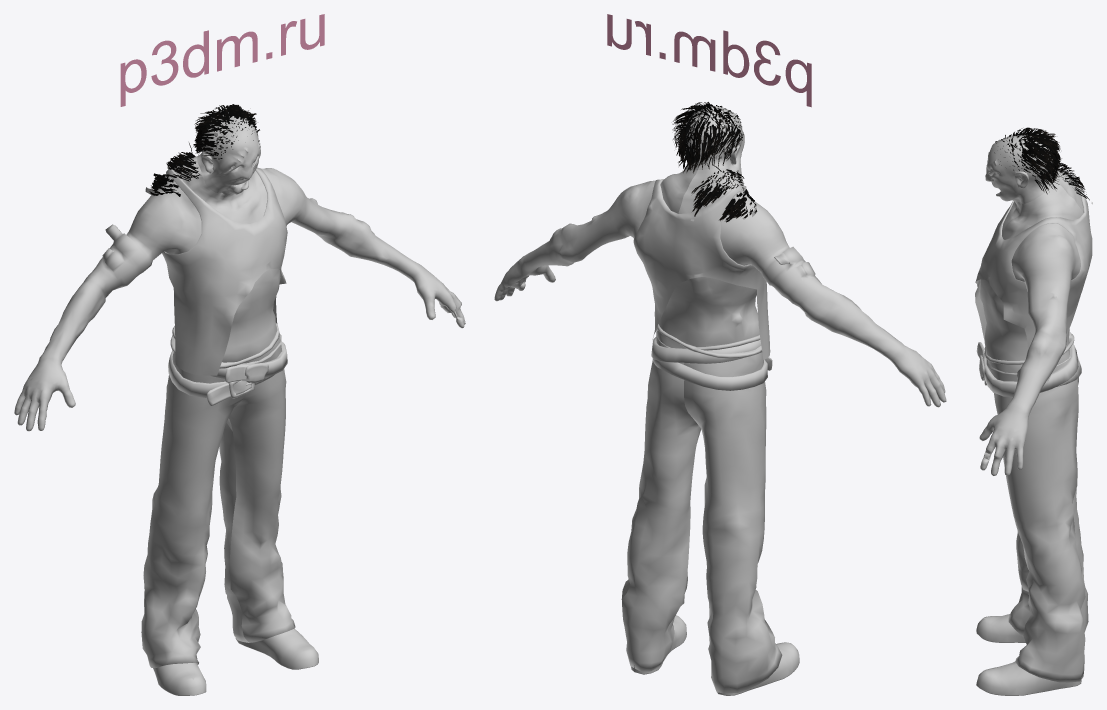
Rendered from Crooked.obj.
The picture shows the model from 3 angles, left to right: view 1: azimuth 30°, elevation 25°; view 2: azimuth 150°, elevation 25°; view 3: azimuth 270°, elevation 25°; orthographic projection. The views are drawn at different scales.
Parts seen in each view (by area): view 1: Object003, SlasherMax_Torso, Object005, Text001, Object004; view 2: Object003, SlasherMax_Torso, Object004, Object005, Text001; view 3: Object003, SlasherMax_Torso, Object005, Object004.
Part boxes in pixels (x1,y1,x2,y2): Object003: [141, 323, 318, 695]; SlasherMax_Torso: [14, 167, 465, 431]; Object005: [173, 113, 267, 223]; Text001: [120, 14, 324, 106]; Object004: [149, 104, 259, 196]; Object003: [621, 324, 799, 695]; SlasherMax_Torso: [494, 179, 946, 407]; Object004: [672, 102, 756, 222]; Object005: [660, 105, 744, 213]; Text001: [607, 14, 811, 107]; Object003: [976, 331, 1088, 695]; SlasherMax_Torso: [975, 168, 1092, 475]; Object005: [985, 135, 1083, 239]; Object004: [994, 127, 1089, 200].
Size of the model in its own units: 174 by 241 by 42.04.
